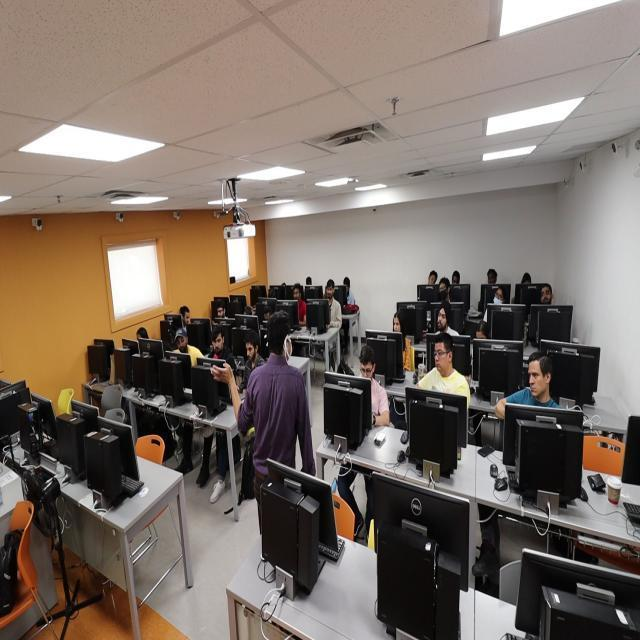Looking away: (360, 360, 374, 384), (246, 342, 258, 363), (212, 333, 223, 352), (182, 310, 190, 326), (428, 272, 436, 286), (452, 273, 460, 286), (326, 285, 334, 298), (293, 288, 300, 302), (217, 306, 224, 318)
Looking forward: (528, 361, 544, 397), (434, 342, 448, 372), (540, 287, 552, 305), (176, 336, 188, 354), (438, 282, 449, 301), (437, 309, 447, 329), (494, 288, 504, 306), (393, 317, 401, 335)
